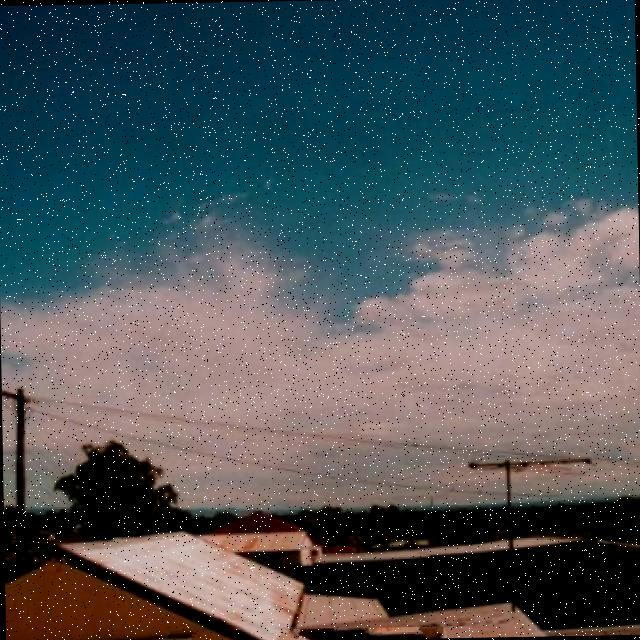Cs: (1, 125, 640, 415)
